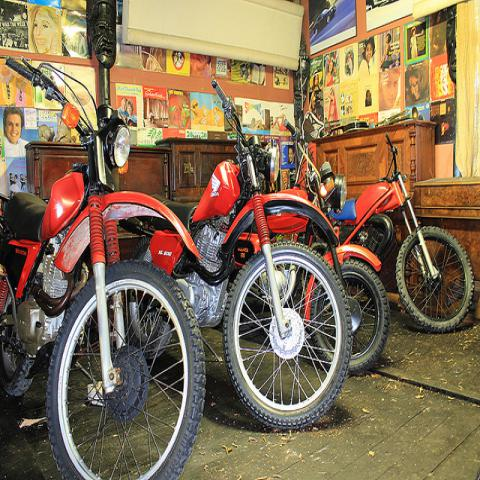motorcycle: (2, 54, 205, 474), (190, 77, 354, 429), (292, 133, 473, 333), (263, 118, 392, 375)
